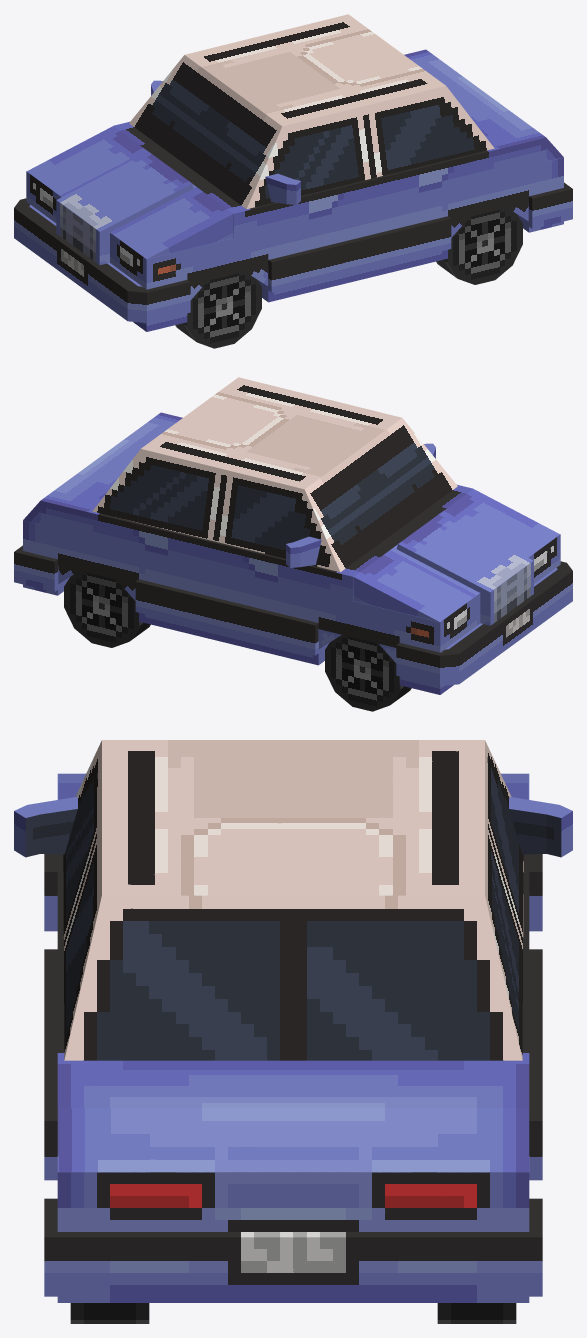
File: car1_2.gltf
3 renders of one model, top to bottom at view 1: azimuth 30°, elevation 25°; view 2: azimuth 150°, elevation 25°; view 3: azimuth 270°, elevation 25°, orthographic. The views are drawn at different scales.
Parts seen in each view (by area): view 1: cube (×14), cuboid (×2), cylinder (×2); view 2: cube (×14), cuboid (×2), cylinder (×2); view 3: cuboid (×3), cube (×7), cylinder (×2).
Boxes of the visible parts, x1,y1,x2,y2 form: cube (×14): [14, 49, 572, 331]; cuboid (×2): [129, 14, 494, 209]; cylinder (×2): [175, 208, 522, 348]; cube (×14): [14, 412, 572, 694]; cuboid (×2): [92, 377, 457, 572]; cylinder (×2): [64, 571, 411, 711]; cuboid (×3): [14, 740, 572, 1060]; cube (×7): [44, 774, 542, 1302]; cylinder (×2): [70, 1303, 516, 1323].
Bounding box in the file's own units: 6.06 × 2.62 × 3.41.
1 material, 1 textured.
